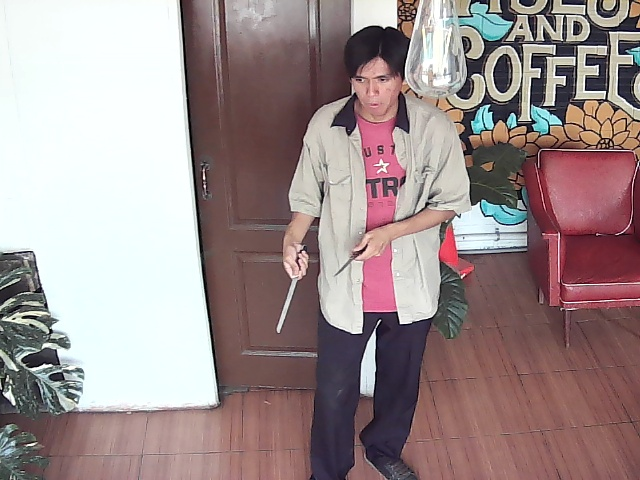cuchillo: (270, 244, 316, 337)
